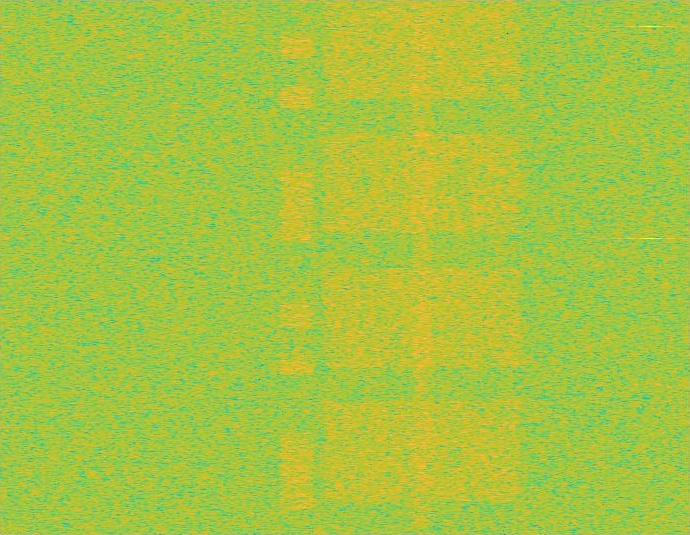5G: (318, 0, 525, 534)
DSSS: (408, 0, 436, 534)
LTE: (279, 0, 314, 534)
Radar: (644, 0, 657, 534)
